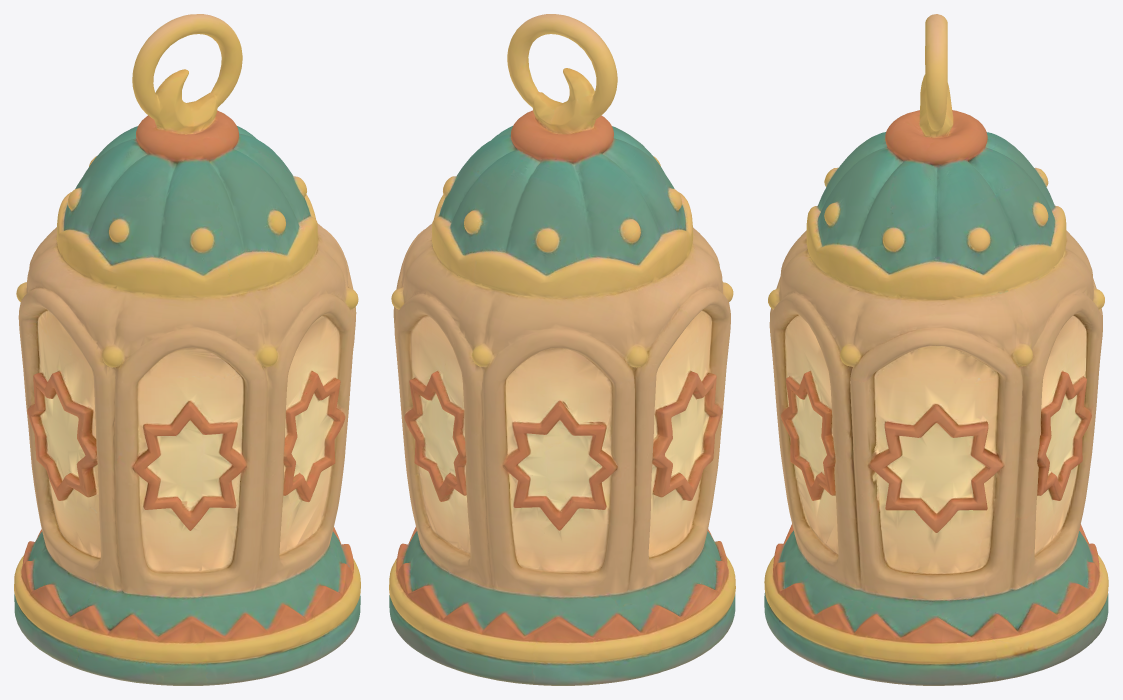
The model's file is curtains.glb.
3 renders of one model, left to right at view 1: azimuth 30°, elevation 25°; view 2: azimuth 150°, elevation 25°; view 3: azimuth 270°, elevation 25°, orthographic.
Size of the model in its own units: 0.995 by 1.9 by 0.9924.
Materials: 1 (1 with a texture image).
